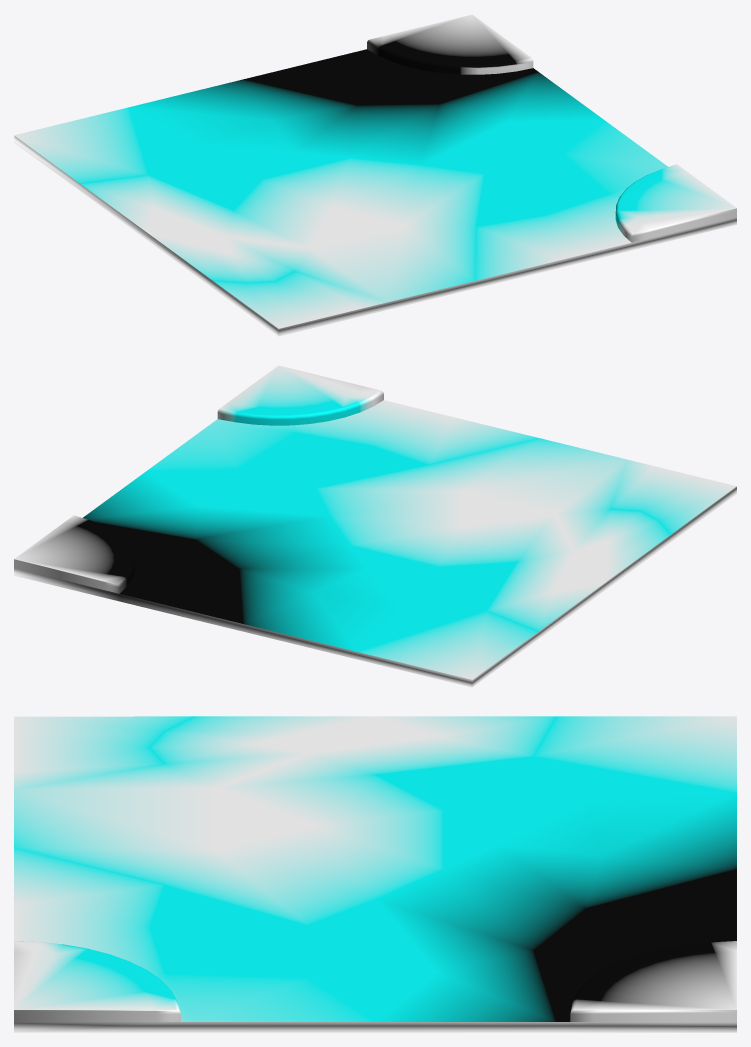
3 renders of one model, top to bottom at view 1: azimuth 30°, elevation 25°; view 2: azimuth 150°, elevation 25°; view 3: azimuth 270°, elevation 25°, orthographic. The views are drawn at different scales.
Parts seen in each view (by area): view 1: SM_Module_4x4_07_LOD0; view 2: SM_Module_4x4_07_LOD0; view 3: SM_Module_4x4_07_LOD0.
Part boxes in pixels (box(x1,y1,x2,y2)): SM_Module_4x4_07_LOD0: box(14, 14, 736, 336); SM_Module_4x4_07_LOD0: box(14, 365, 736, 687); SM_Module_4x4_07_LOD0: box(14, 716, 736, 1032).
Bounding box in the file's own units: 400 × 400 × 13.86.
